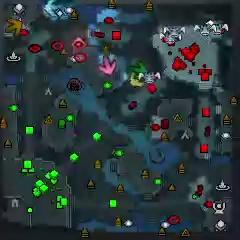x1: (100, 57, 116, 75)
x2: (129, 72, 144, 88)
x3: (45, 0, 63, 17)
x4: (129, 61, 148, 77)
x5: (4, 18, 23, 38)
